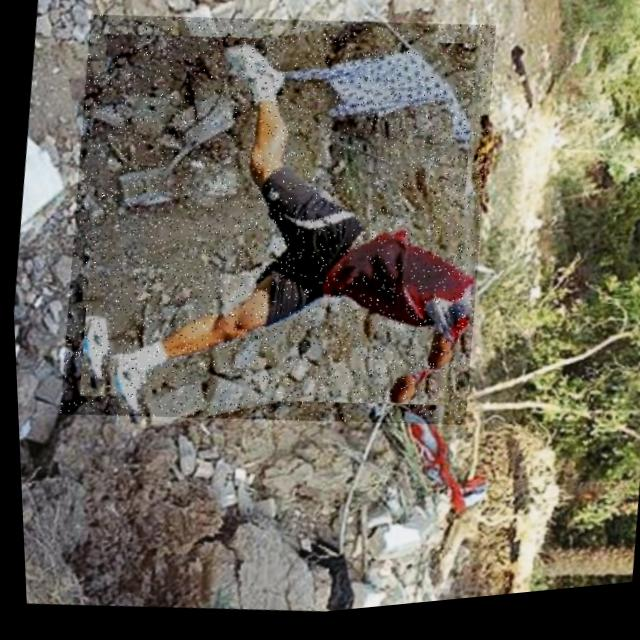Person in Rubble: (41, 0, 508, 464)
